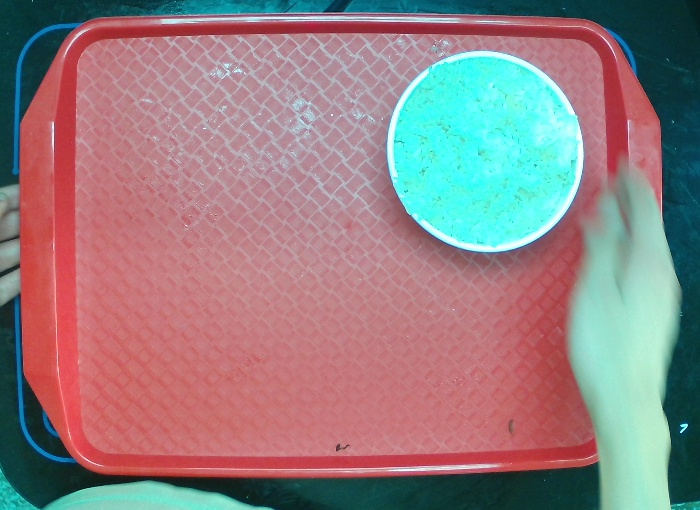YKMZ-Fan_Wan: (384, 49, 587, 254)
